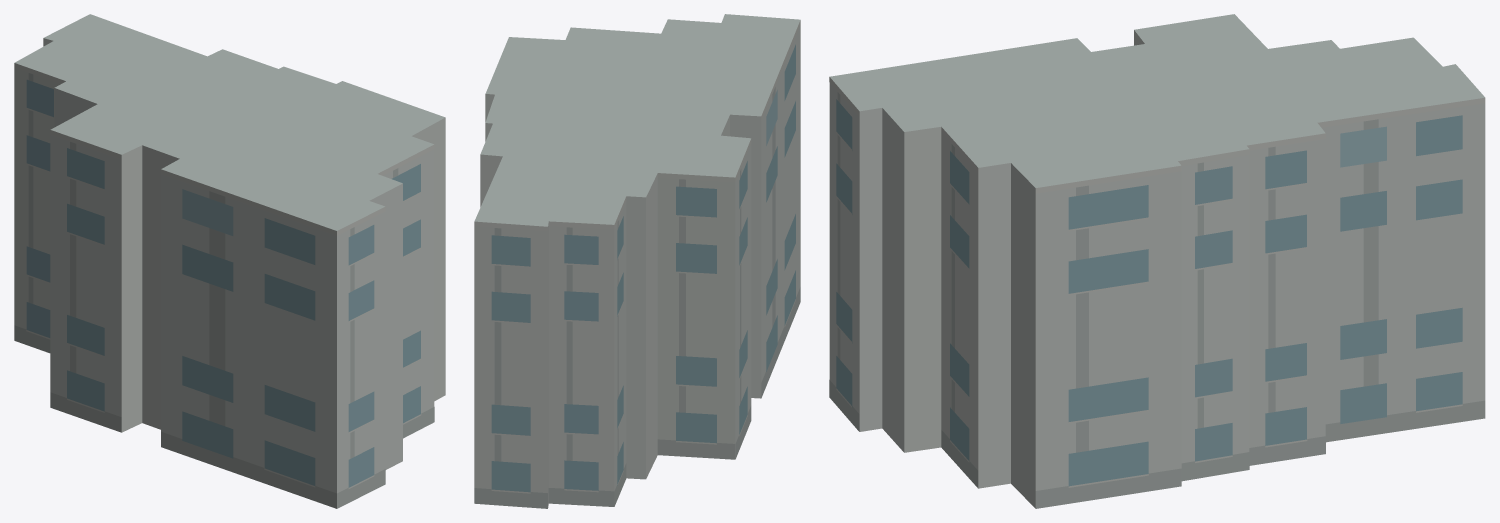
The model's file is survey-upis-32961649.glb.
3 views of the same model, side by side, from view 1: azimuth 30°, elevation 25°; view 2: azimuth 150°, elevation 25°; view 3: azimuth 270°, elevation 25° (orthographic). The views are drawn at different scales.
Parts seen in each view (by area): view 1: survey-upis-32961649.tmp; view 2: survey-upis-32961649.tmp; view 3: survey-upis-32961649.tmp.
Boxes of the visible parts, left/top/right/bottom form: survey-upis-32961649.tmp: left=14, top=14, right=445, bottom=508; survey-upis-32961649.tmp: left=474, top=14, right=800, bottom=508; survey-upis-32961649.tmp: left=829, top=14, right=1485, bottom=508.
Size of the model in its own units: 16.19 by 13.9 by 25.77.
